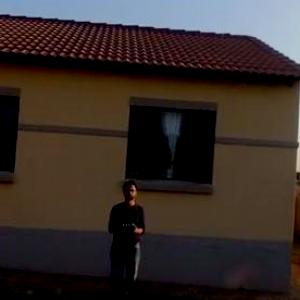follow: (104, 173, 148, 299)
